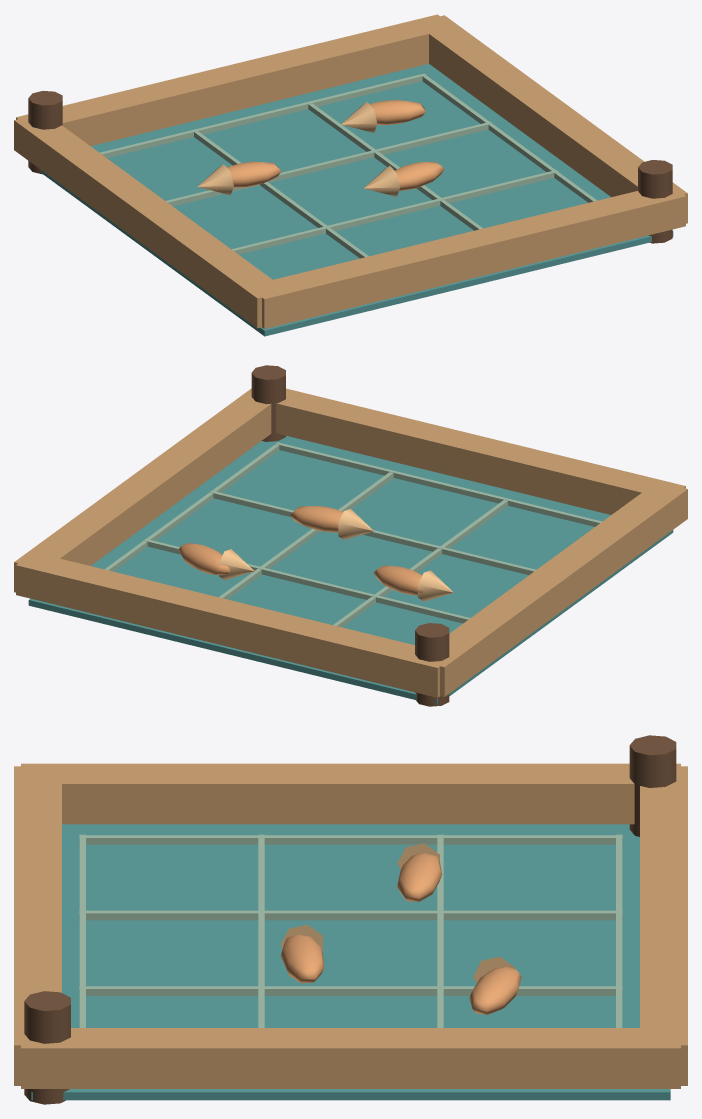
The model's file is fish-pen.glb.
The picture shows the model from 3 angles, top to bottom: view 1: azimuth 30°, elevation 25°; view 2: azimuth 150°, elevation 25°; view 3: azimuth 270°, elevation 25°; orthographic projection. The views are drawn at different scales.
Parts seen in each view (by area): view 1: fish-pen_woodLight, fish-pen_waterDeep, fish-pen_net, fish-pen_fish, fish-pen_woodDark, fish-pen_fishLight; view 2: fish-pen_woodLight, fish-pen_waterDeep, fish-pen_net, fish-pen_woodDark, fish-pen_fish, fish-pen_fishLight; view 3: fish-pen_waterDeep, fish-pen_woodLight, fish-pen_net, fish-pen_woodDark, fish-pen_fish, fish-pen_fishLight.
Boxes of the visible parts, x1,y1,x2,y2 form: fish-pen_woodLight: [14, 14, 687, 328]; fish-pen_waterDeep: [40, 64, 673, 336]; fish-pen_net: [100, 73, 596, 258]; fish-pen_fish: [227, 100, 444, 190]; fish-pen_woodDark: [28, 90, 672, 243]; fish-pen_fishLight: [197, 102, 399, 196]; fish-pen_woodLight: [14, 388, 687, 697]; fish-pen_waterDeep: [28, 435, 673, 705]; fish-pen_net: [104, 442, 602, 627]; fish-pen_woodDark: [251, 365, 449, 706]; fish-pen_fish: [178, 506, 424, 595]; fish-pen_fishLight: [219, 509, 453, 601]; fish-pen_waterDeep: [31, 824, 670, 1100]; fish-pen_woodLight: [14, 763, 687, 1088]; fish-pen_net: [79, 834, 622, 1027]; fish-pen_woodDark: [24, 735, 676, 1104]; fish-pen_fish: [280, 853, 521, 1014]; fish-pen_fishLight: [280, 843, 515, 983].
Size of the model in its own units: 1.96 by 0.3 by 1.96.
